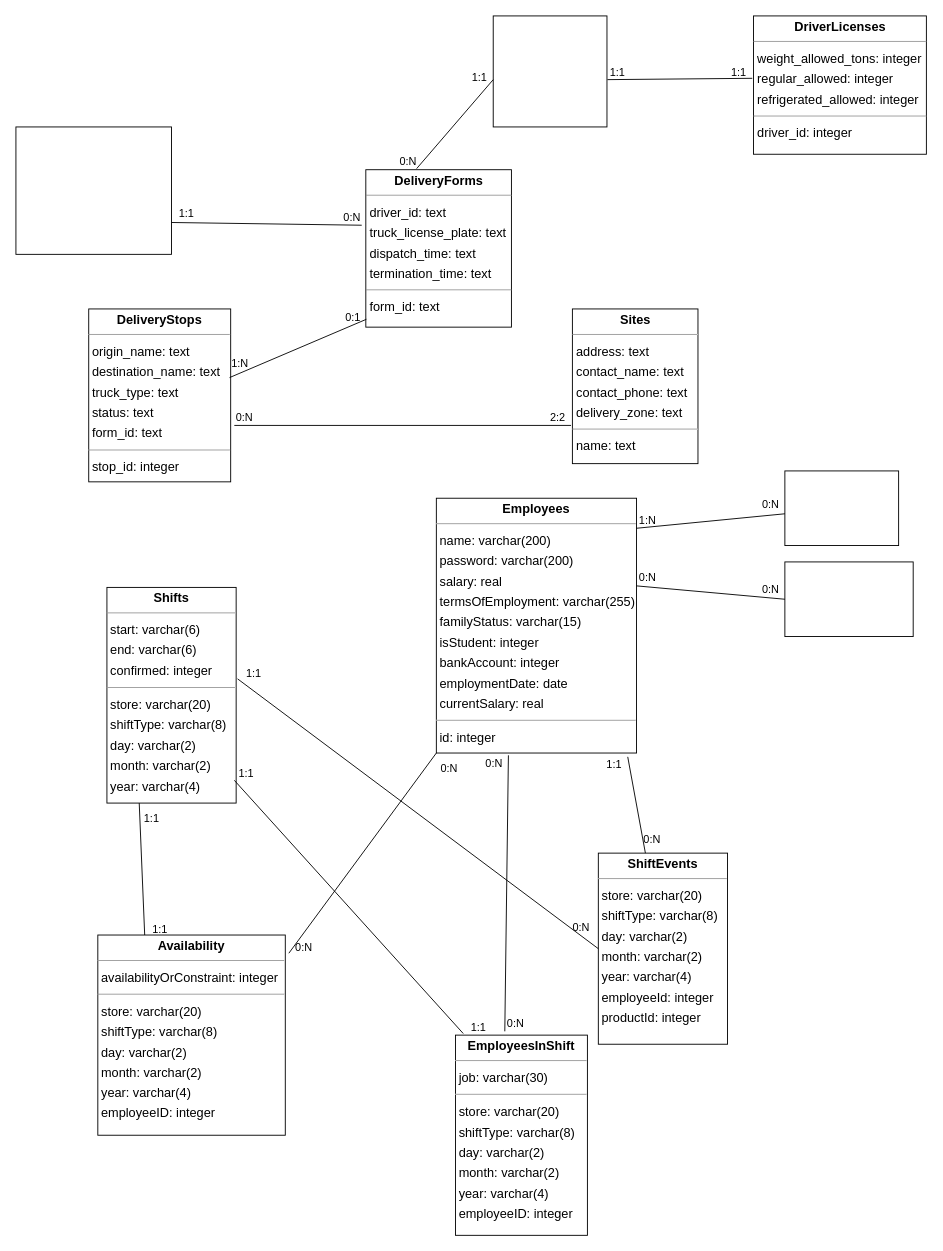
Some shapes in this 943 by 1251 pixel diagram are drawn without their labels. The box of each missing label's shape, as (x1, y1, x2, y2) in pixels:
Drivers driver_name: text phone: text driver_id: text: (492, 15, 607, 127)
EmployeeRoles id: integer jobType: varchar(30): (784, 561, 913, 637)
EmployeeStores id: integer store: varchar(30): (784, 470, 899, 546)
Trucks max_weight_tons: integer truck_type: text model: text license_plate: text: (15, 126, 172, 254)
